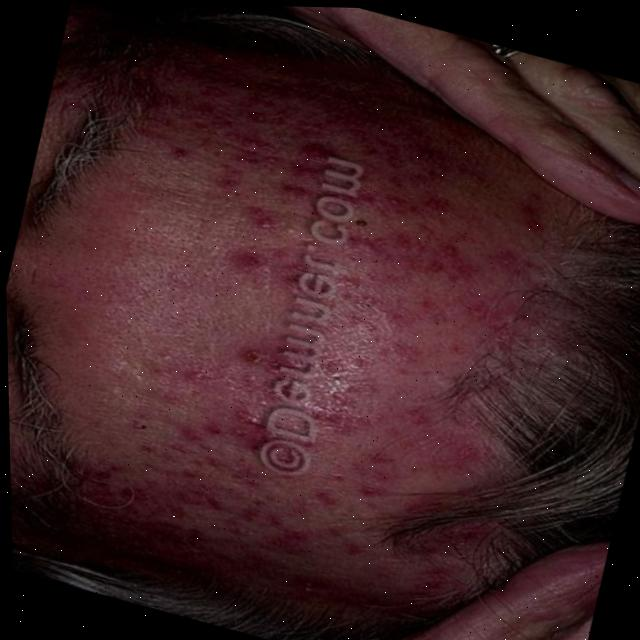Rosacea: (93, 86, 572, 606)
